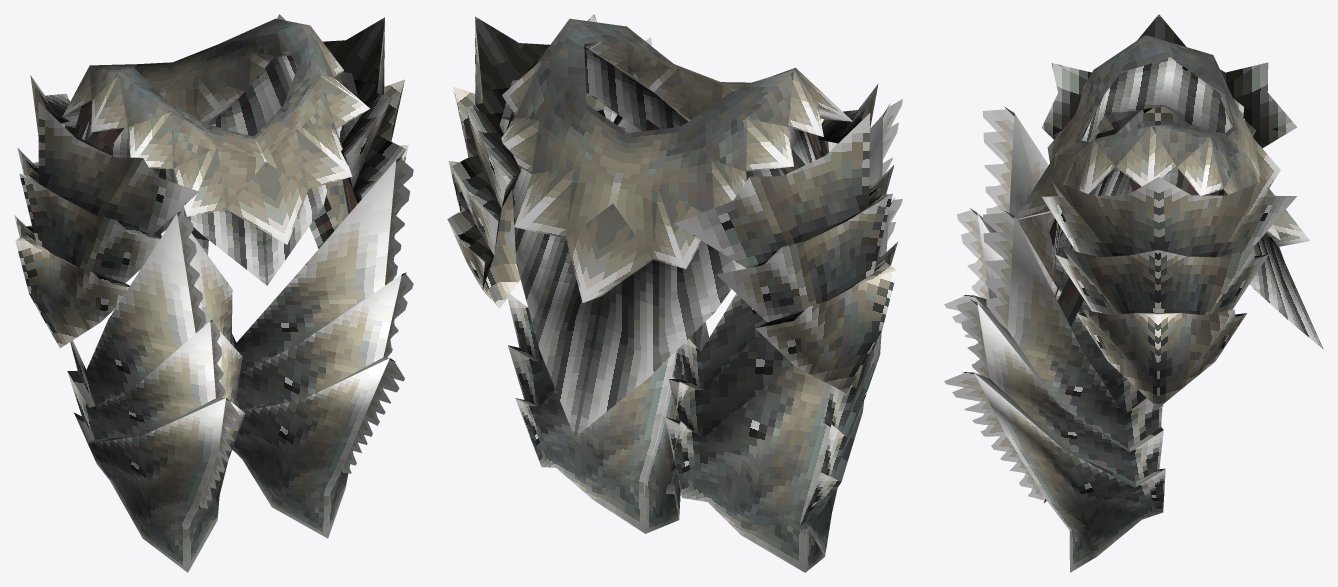
Rendered from m_wst289.glb.
The picture shows the model from 3 angles, left to right: view 1: azimuth 30°, elevation 25°; view 2: azimuth 150°, elevation 25°; view 3: azimuth 270°, elevation 25°; orthographic projection. The views are drawn at different scales.
Size of the model in its own units: 63.98 by 74.02 by 56.56.
Materials: 1 (1 with a texture image).
